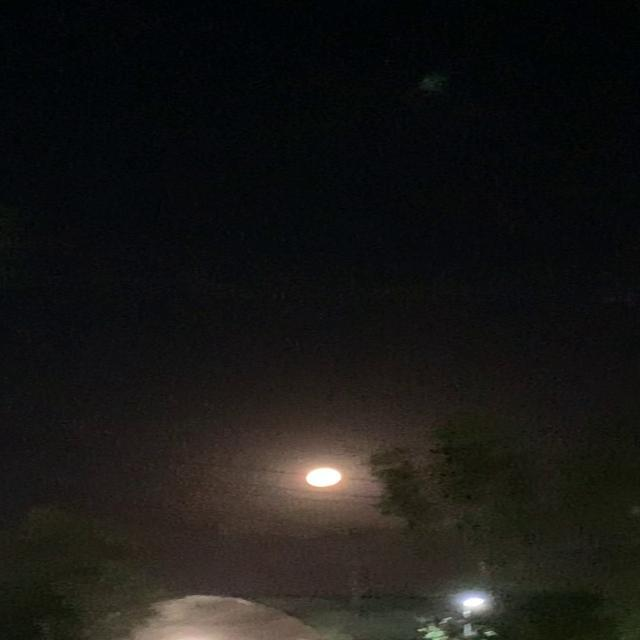moon: (289, 468, 342, 493)
